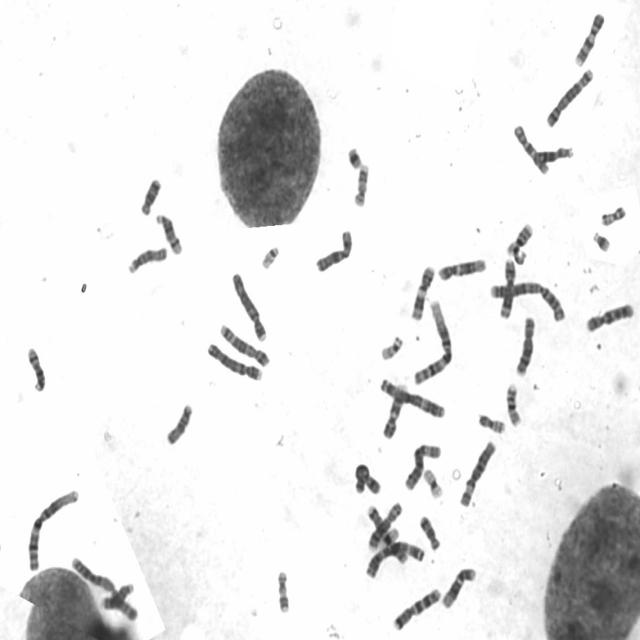A1: (24, 484, 82, 572), (410, 294, 456, 387)
A2: (68, 551, 140, 623), (488, 275, 569, 323)
A3: (377, 373, 448, 419), (363, 535, 427, 579)
B4: (230, 267, 270, 343), (204, 337, 265, 382)
B5: (544, 63, 596, 128), (217, 318, 272, 368)
C10: (511, 119, 552, 175), (583, 298, 637, 334)
C11: (410, 259, 438, 322), (497, 253, 518, 320)
C12: (440, 562, 479, 610), (436, 252, 490, 282)
C6: (457, 435, 499, 508), (402, 438, 443, 492)
C7: (390, 583, 443, 632), (366, 506, 404, 564)
C8: (365, 498, 405, 555), (513, 311, 538, 378)
C9: (572, 8, 607, 68), (380, 378, 410, 439)
D13: (529, 138, 573, 166), (99, 583, 135, 612)
D14: (152, 208, 185, 256), (23, 347, 48, 393)
D15: (125, 240, 170, 275), (164, 398, 195, 446)
E16: (505, 218, 535, 263), (503, 379, 524, 427)
E17: (351, 159, 372, 208), (274, 564, 292, 614)
E18: (416, 509, 443, 552), (138, 172, 164, 216)
F19: (421, 462, 445, 500), (376, 524, 402, 550)
F20: (476, 408, 508, 434), (598, 200, 628, 227)
G21: (344, 141, 366, 170), (590, 226, 613, 253)
G22: (378, 329, 405, 362), (258, 240, 282, 270)
X: (313, 224, 355, 274), (351, 458, 383, 496)
